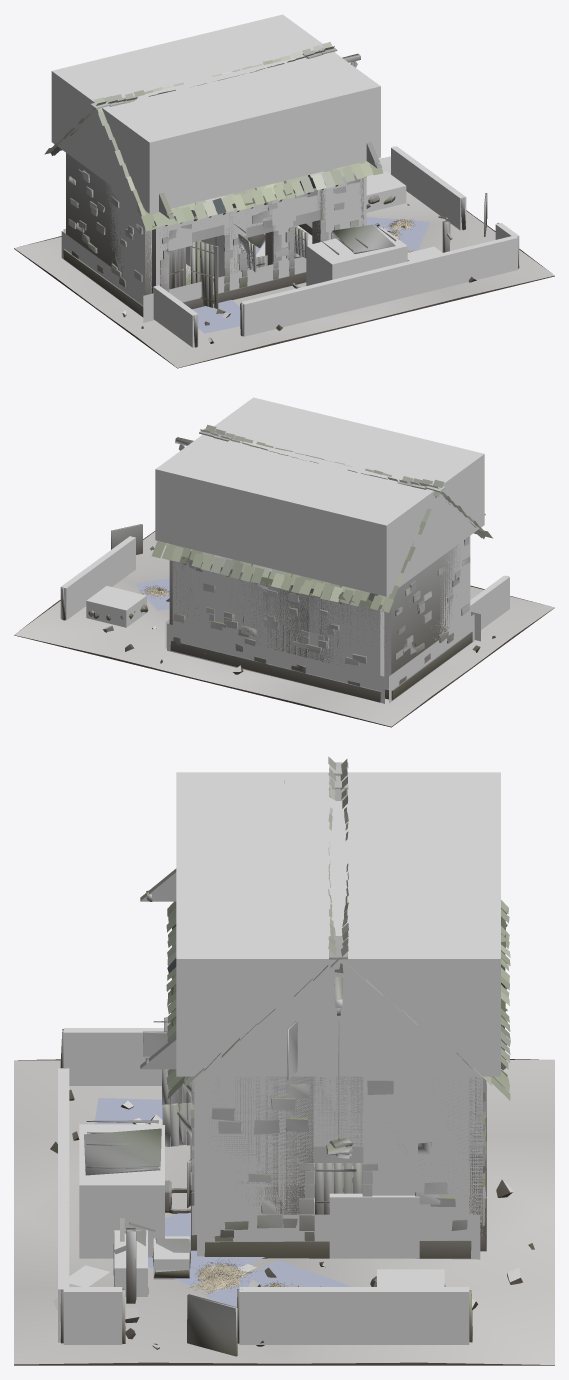
File: bld_stable_shared_lite.glb
The picture shows the model from 3 angles, top to bottom: view 1: azimuth 30°, elevation 25°; view 2: azimuth 150°, elevation 25°; view 3: azimuth 270°, elevation 25°; orthographic projection. The views are drawn at different scales.
Parts seen in each view (by area): view 1: col_roof, ground_mud, col_fence.002, decals_stable, lite_merge_03, lite_merge_06, lite_merge_01, col_coach, col_fence, col_wall_W_0, wall_S_stones, col_fence.003 (+11 smaller); view 2: col_roof, ground_mud, lite_merge_03, col_wall_N_0, decals_stable, lite_merge_06, col_fence, col_wall_W_0, col_dung, col_fence.003, yard_gate, wall_N_stones; view 3: col_roof, ground_mud, lite_merge_07, col_fence, col_wall_E_2, col_wall_E_0, decals_stable, col_coach, col_stall_4, lite_merge_06, col_fence.003, lite_merge_03 (+17 smaller).
Part boxes in pixels (box(x1,y1,x2,y2)): col_roof: box(51, 14, 380, 213); ground_mud: box(14, 156, 554, 368); col_fence.002: box(241, 235, 517, 336); decals_stable: box(61, 176, 429, 333); lite_merge_03: box(63, 153, 476, 343); lite_merge_06: box(44, 42, 383, 231); lite_merge_01: box(152, 175, 363, 309); col_coach: box(306, 227, 407, 285); col_fence: box(391, 146, 466, 230); col_wall_W_0: box(105, 182, 151, 291); wall_S_stones: box(160, 219, 358, 292); col_fence.003: box(153, 285, 198, 347); col_roof: box(155, 397, 484, 596); ground_mud: box(14, 531, 554, 727); lite_merge_03: box(103, 536, 495, 702); col_wall_N_0: box(172, 556, 384, 676); decals_stable: box(135, 578, 480, 703); lite_merge_06: box(151, 424, 492, 612); col_fence: box(60, 536, 135, 620); col_wall_W_0: box(384, 536, 470, 689); col_dung: box(86, 586, 146, 627); col_fence.003: box(470, 575, 509, 629); yard_gate: box(111, 524, 142, 554); wall_N_stones: box(206, 607, 327, 650); col_roof: box(176, 772, 500, 1076); ground_mud: box(14, 1059, 554, 1365); lite_merge_07: box(204, 1076, 471, 1258); col_fence: box(239, 1287, 469, 1344); col_wall_E_2: box(363, 1076, 469, 1214); col_wall_E_0: box(208, 1076, 313, 1214); decals_stable: box(69, 1098, 480, 1306); col_coach: box(79, 1124, 164, 1258); col_stall_4: box(329, 1193, 419, 1258); lite_merge_06: box(166, 756, 510, 1100); col_fence.003: box(63, 1028, 163, 1085); lite_merge_03: box(50, 1076, 534, 1349).
Bounding box in the file's own units: 16 × 7.85 × 12.
